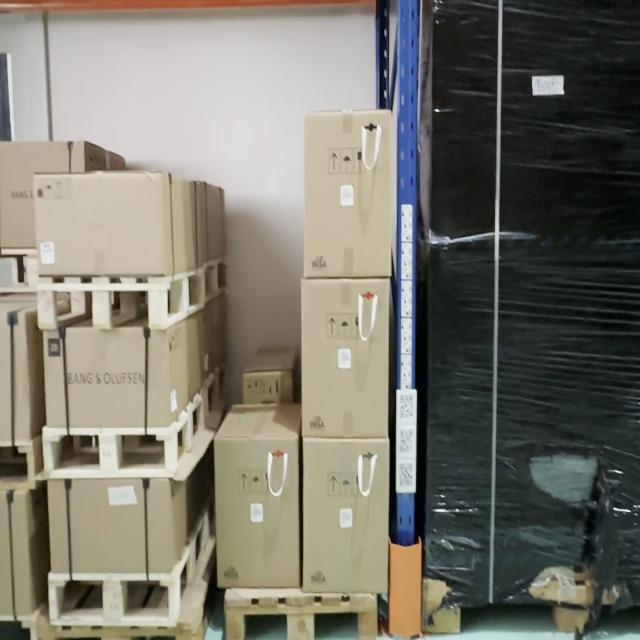box: (306, 115, 391, 277), (304, 281, 388, 438), (38, 176, 161, 274), (304, 443, 386, 589), (218, 447, 299, 587), (47, 485, 177, 567), (47, 338, 171, 422)
